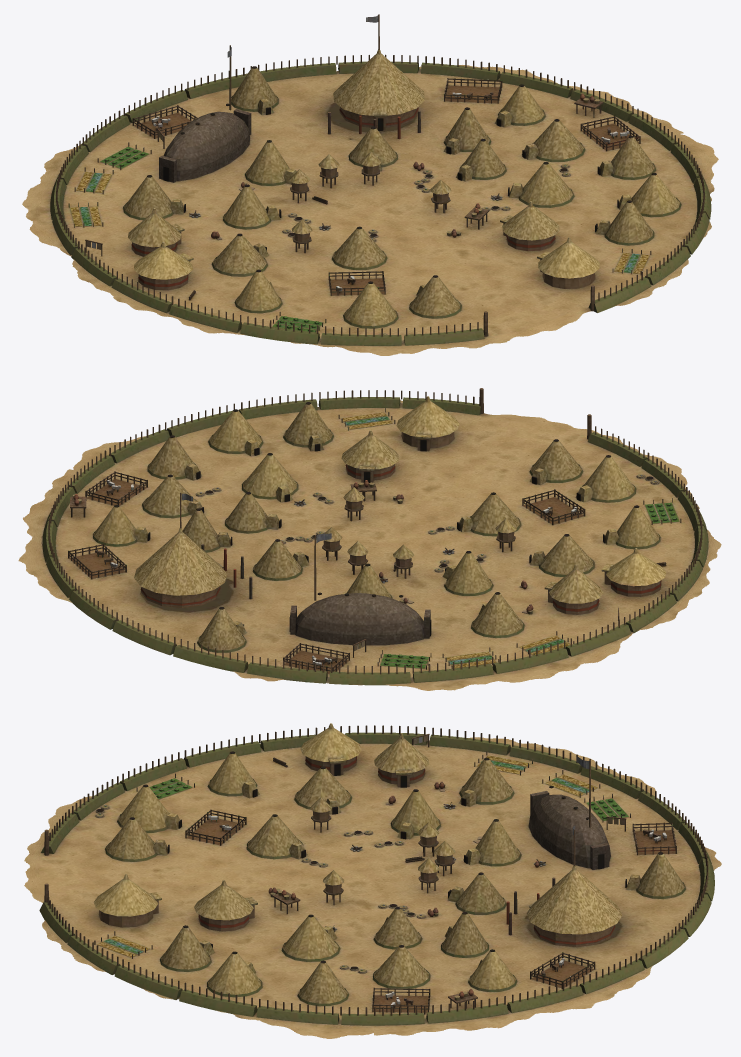
The model's file is stone-town-big-a-sinic.glb.
3 renders of one model, top to bottom at view 1: azimuth 30°, elevation 25°; view 2: azimuth 150°, elevation 25°; view 3: azimuth 270°, elevation 25°, orthographic. The views are drawn at different scales.
Visible parts, largest first — view 1: LOD0; view 2: LOD0; view 3: LOD0.
Boxes of the visible parts, bbox=[...] form: LOD0: bbox=[22, 14, 718, 355]; LOD0: bbox=[18, 388, 721, 690]; LOD0: bbox=[24, 723, 721, 1038].
Size of what is drawn, in the model's own units: 7.98 by 1.23 by 7.7.
Materials: 3 (3 with a texture image).
